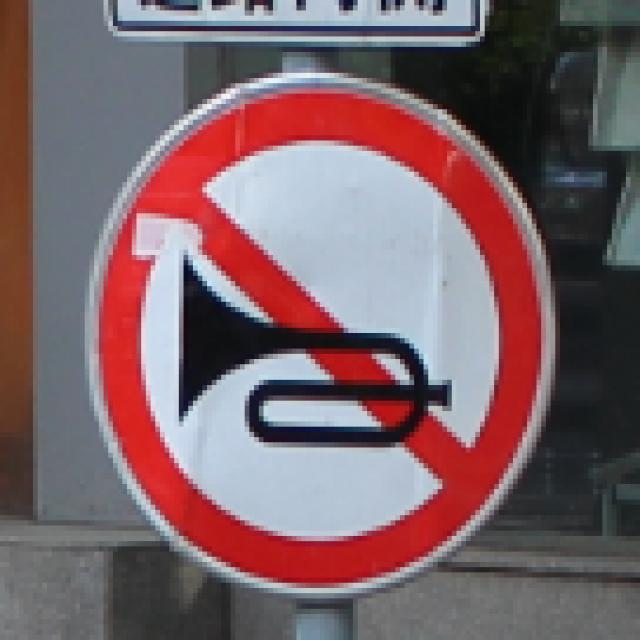No Horn: (92, 67, 545, 596)
